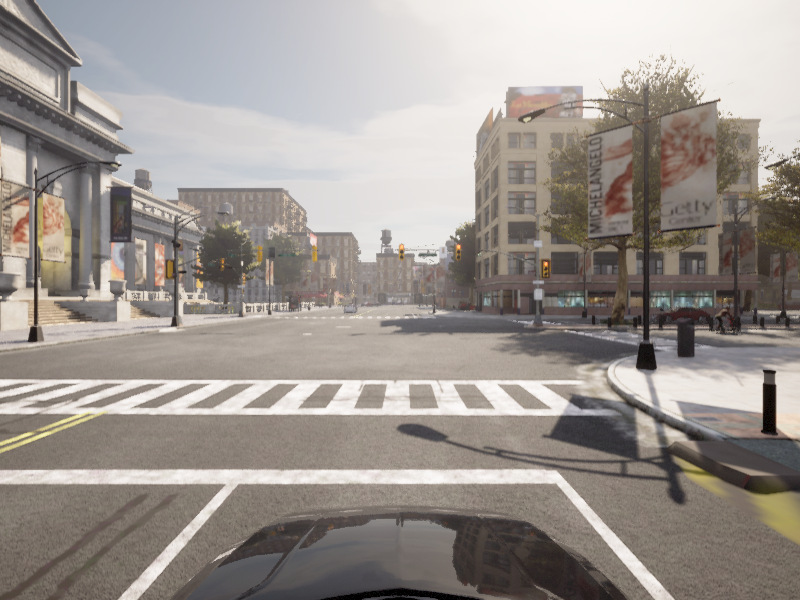vehicle: (646, 306, 714, 323), (706, 306, 743, 335)
